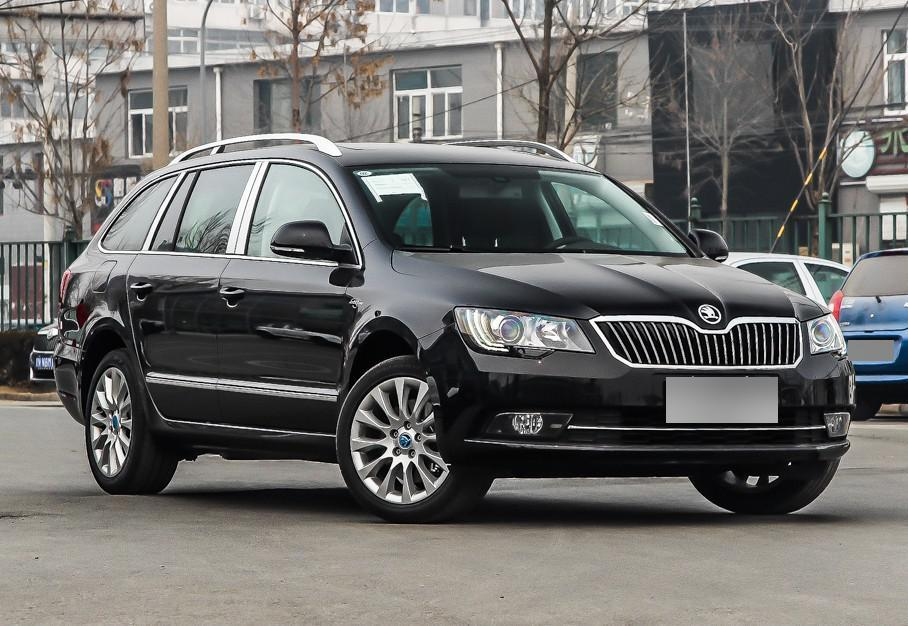Wagon: (53, 134, 855, 524)
